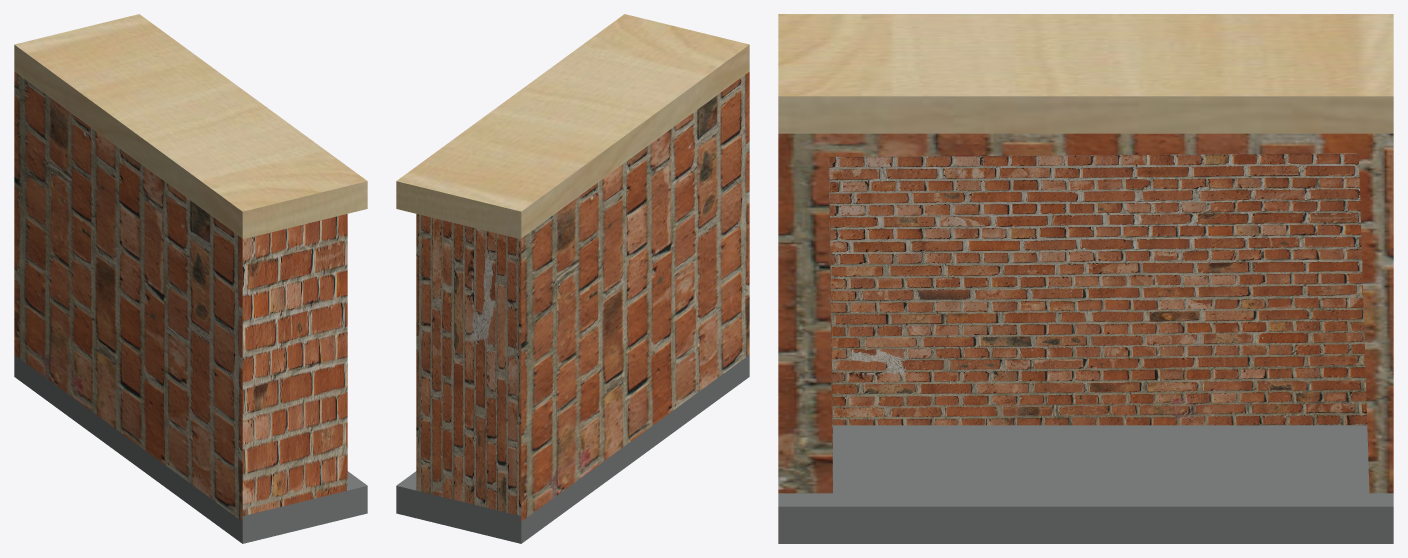
File: Fireplace.fbx
3 renders of one model, left to right at view 1: azimuth 30°, elevation 25°; view 2: azimuth 150°, elevation 25°; view 3: azimuth 270°, elevation 25°, orthographic. The views are drawn at different scales.
Visible parts, largest first — view 1: Fireplace, Fireplace top, Fireplace base; view 2: Fireplace, Fireplace top, Fireplace base; view 3: Fireplace, Fireplace top, Fireplace base.
Part boxes in pixels (x1=…): Fireplace: x1=14, y1=71, x2=347, y2=521; Fireplace top: x1=14, y1=14, x2=367, y2=239; Fireplace base: x1=14, y1=355, x2=367, y2=543; Fireplace: x1=416, y1=71, x2=749, y2=521; Fireplace top: x1=396, y1=14, x2=749, y2=239; Fireplace base: x1=396, y1=355, x2=749, y2=543; Fireplace: x1=778, y1=133, x2=1393, y2=493; Fireplace top: x1=778, y1=14, x2=1393, y2=133; Fireplace base: x1=778, y1=425, x2=1393, y2=543.
Size of the model in its own units: 363 by 922 by 1148.
